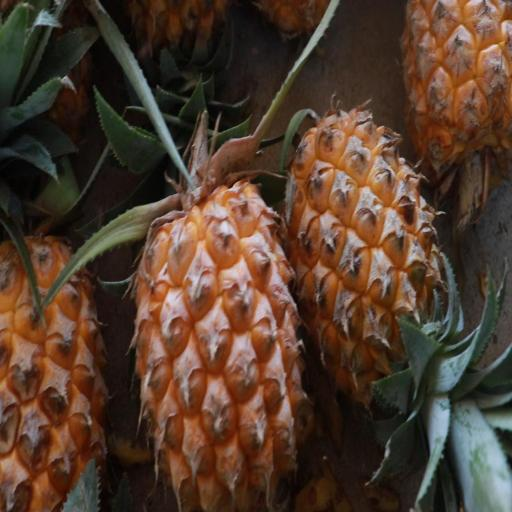Pineapple - v8 v1: (127, 115, 307, 512), (276, 101, 462, 435), (0, 189, 114, 511), (396, 0, 511, 232)
